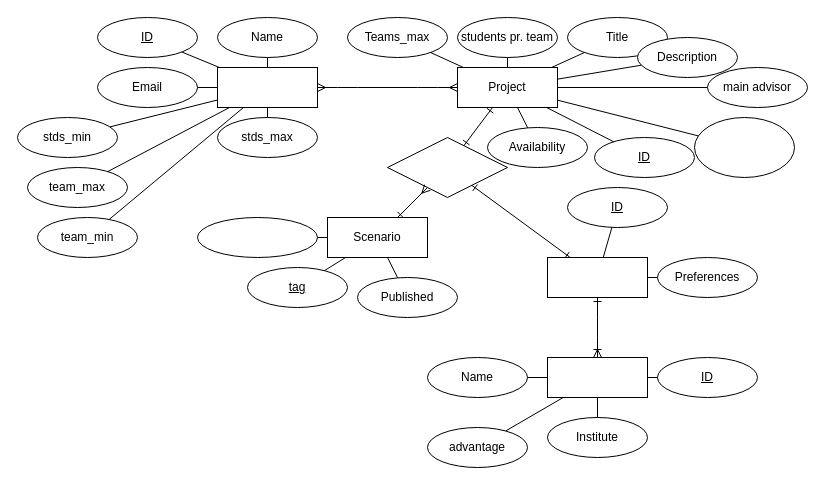
The diagram is 825 pixels wide and 485 high, and some of its shapes have lost their labels. Here are the shapes that lost their labels. From the top down, the box of each, then its label:
(216, 66, 318, 108): Teacher
(386, 136, 508, 198): Assignment
(694, 116, 794, 178): co advisors
(196, 216, 318, 258): parameters for computation
(546, 256, 648, 298): Group
(546, 356, 648, 398): Student
